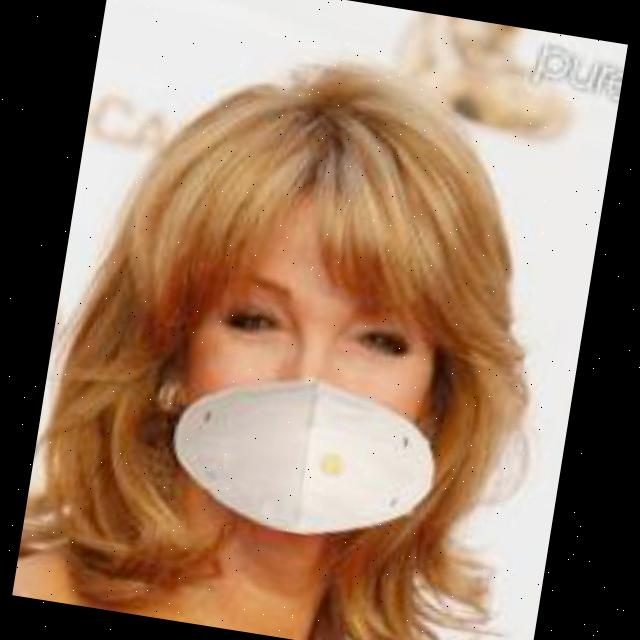suspicion: (114, 111, 534, 584)
